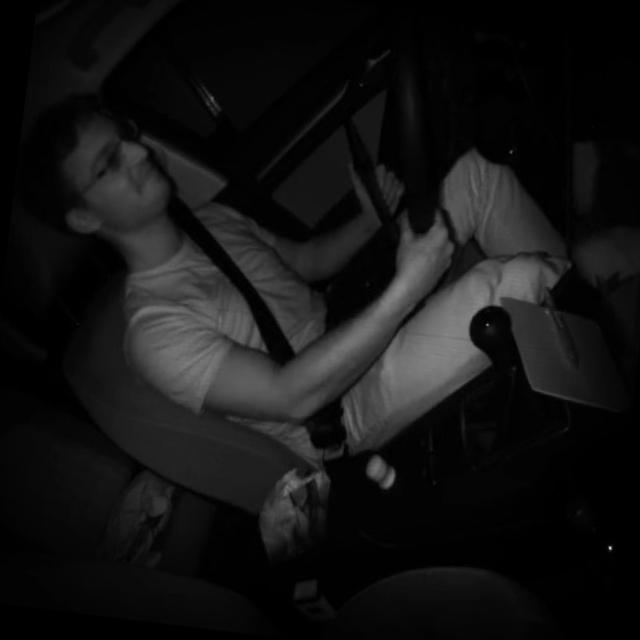pen: (530, 276, 592, 374)
